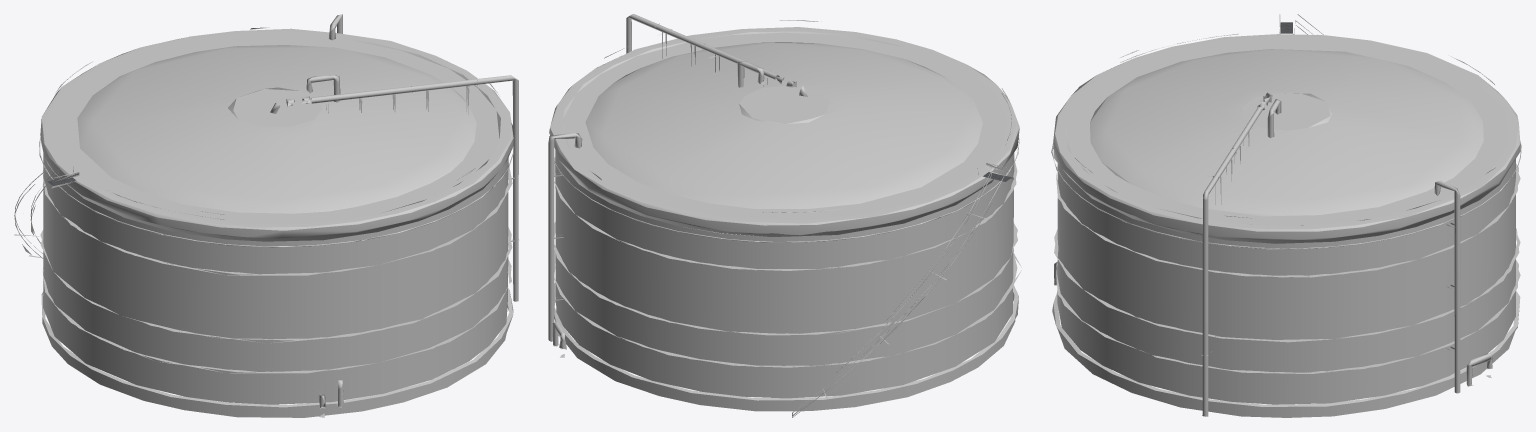
Rendered from SM_CylindricalTank_01.fbx.
3 renders of one model, left to right at view 1: azimuth 30°, elevation 25°; view 2: azimuth 150°, elevation 25°; view 3: azimuth 270°, elevation 25°, orthographic.
Visible parts, largest first — view 1: SM_CylindricalTank_01_LOD0; view 2: SM_CylindricalTank_01_LOD0; view 3: SM_CylindricalTank_01_LOD0.
Part boxes in pixels (x1,y1,x2,y2): SM_CylindricalTank_01_LOD0: [14, 14, 519, 417]; SM_CylindricalTank_01_LOD0: [548, 14, 1021, 417]; SM_CylindricalTank_01_LOD0: [1051, 14, 1521, 417].
Bounding box in the file's own units: 5582 × 5294 × 2928.
